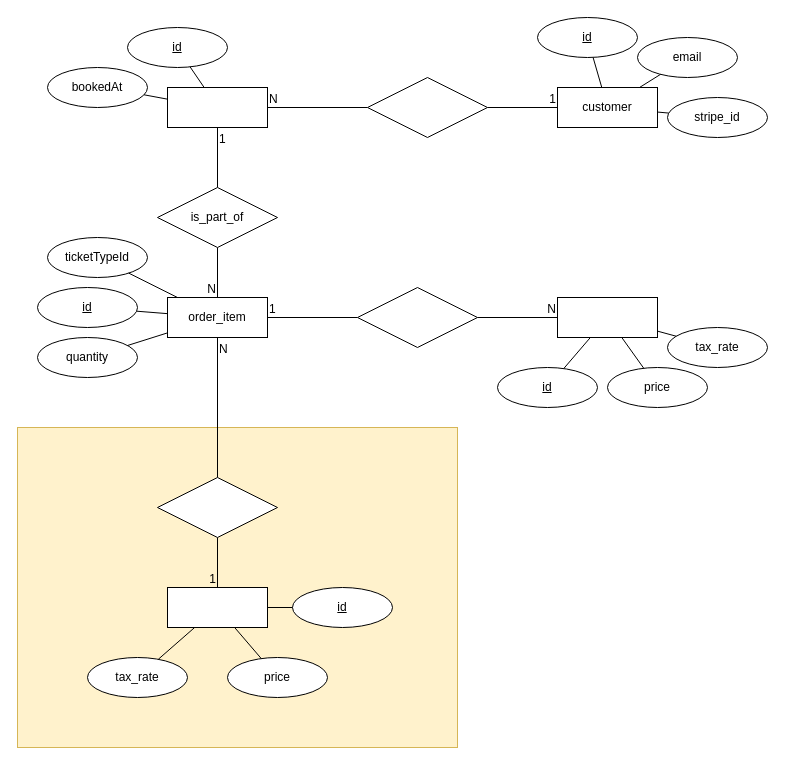
Some shapes in this 785 by 765 pixel diagram are drawn without their labels. The centre of each missing label's shape, as x and y in pixels:
"defined_by" goes at (x=217, y=507).
"has" goes at (x=417, y=317).
"order" goes at (x=217, y=107).
"ordered_by" goes at (x=427, y=107).
"ticket" goes at (x=607, y=317).
"ticket_type" goes at (x=217, y=607).
